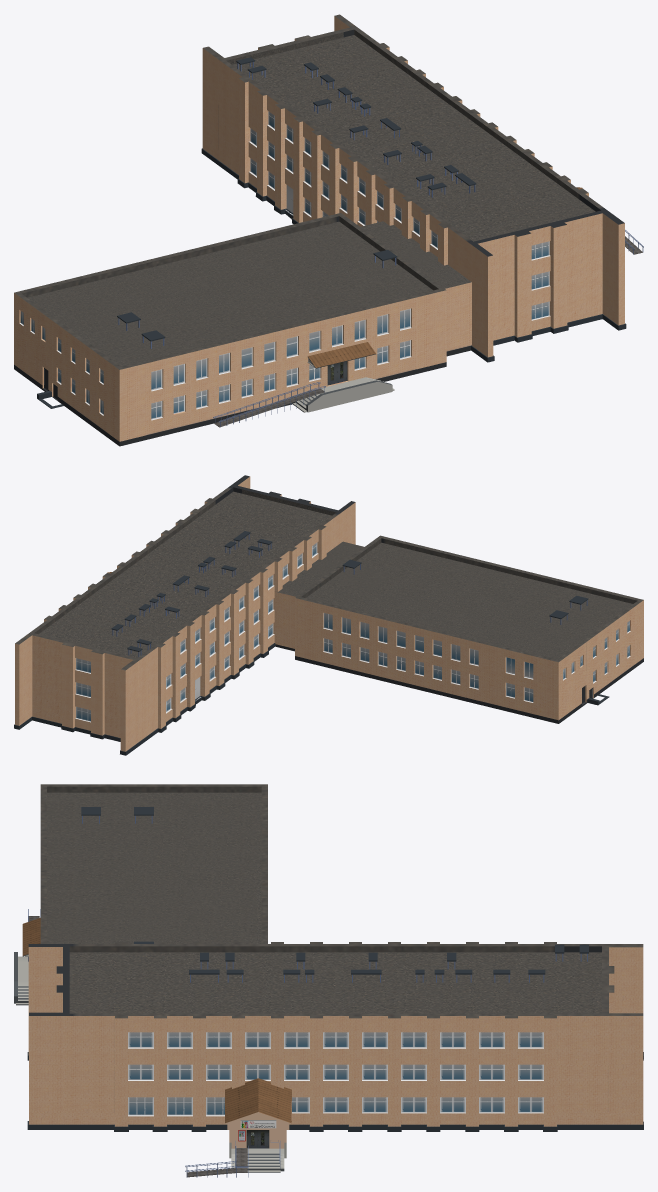
The model's file is musik_school.glb.
3 views of the same model, one above another, from view 1: azimuth 30°, elevation 25°; view 2: azimuth 150°, elevation 25°; view 3: azimuth 270°, elevation 25° (orthographic). The views are drawn at different scales.
Visible parts, largest first — view 1: Object_4, Object_5, Object_6, Object_9, Object_3, Object_2, Object_10; view 2: Object_4, Object_5, Object_6, Object_9; view 3: Object_4, Object_5, Object_6, Object_2, Object_3, Object_9, Object_10.
Boxes of the visible parts, x1,y1,x2,y2 form: Object_4: [202, 14, 624, 357]; Object_5: [14, 213, 471, 446]; Object_6: [37, 57, 626, 408]; Object_9: [118, 62, 643, 427]; Object_3: [292, 377, 394, 412]; Object_2: [307, 187, 582, 368]; Object_10: [214, 236, 642, 427]; Object_4: [15, 475, 355, 751]; Object_5: [274, 535, 643, 723]; Object_6: [14, 531, 609, 755]; Object_9: [112, 534, 587, 657]; Object_4: [28, 942, 643, 1126]; Object_5: [40, 784, 267, 943]; Object_6: [27, 807, 643, 1131]; Object_2: [22, 918, 291, 1158]; Object_3: [14, 952, 284, 1172]; Object_9: [28, 815, 587, 1177]; Object_10: [28, 916, 247, 1177].
Bounding box in the file's own units: 6608 × 1137 × 5537.
Materials: 9 (7 with a texture image).
